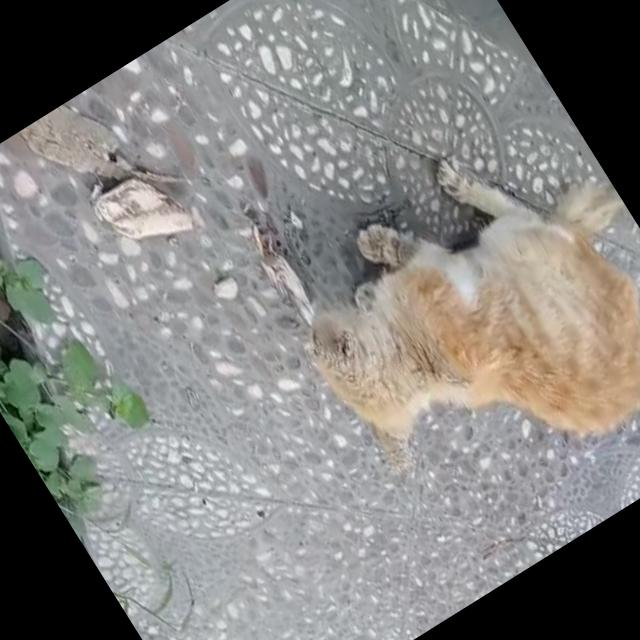cat-scabies: (296, 314, 378, 400), (338, 200, 410, 282), (358, 409, 420, 482)
